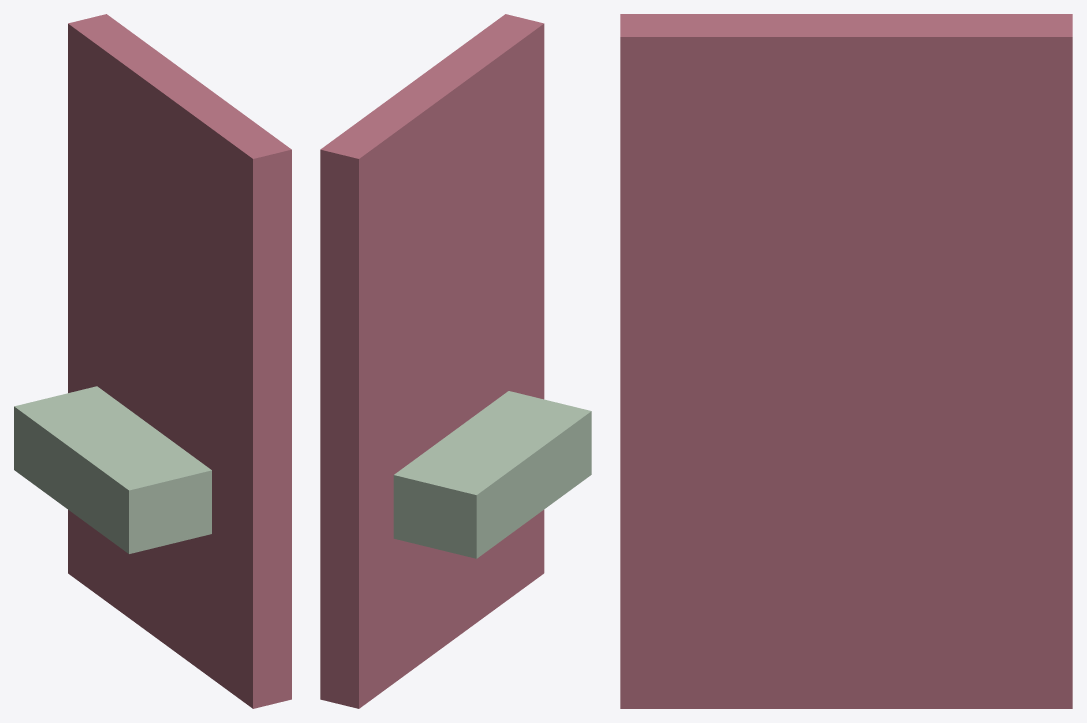
The picture shows the model from 3 angles, left to right: view 1: azimuth 30°, elevation 25°; view 2: azimuth 150°, elevation 25°; view 3: azimuth 270°, elevation 25°; orthographic projection. The views are drawn at different scales.
Visible parts, largest first — view 1: world; view 2: world; view 3: world.
Boxes of the visible parts, x1=… form: world: x1=14, y1=14, x2=291, y2=708; world: x1=320, y1=14, x2=591, y2=708; world: x1=620, y1=14, x2=1072, y2=708.
Size of the model in its own units: 2.25 by 9.5 by 5.8.
